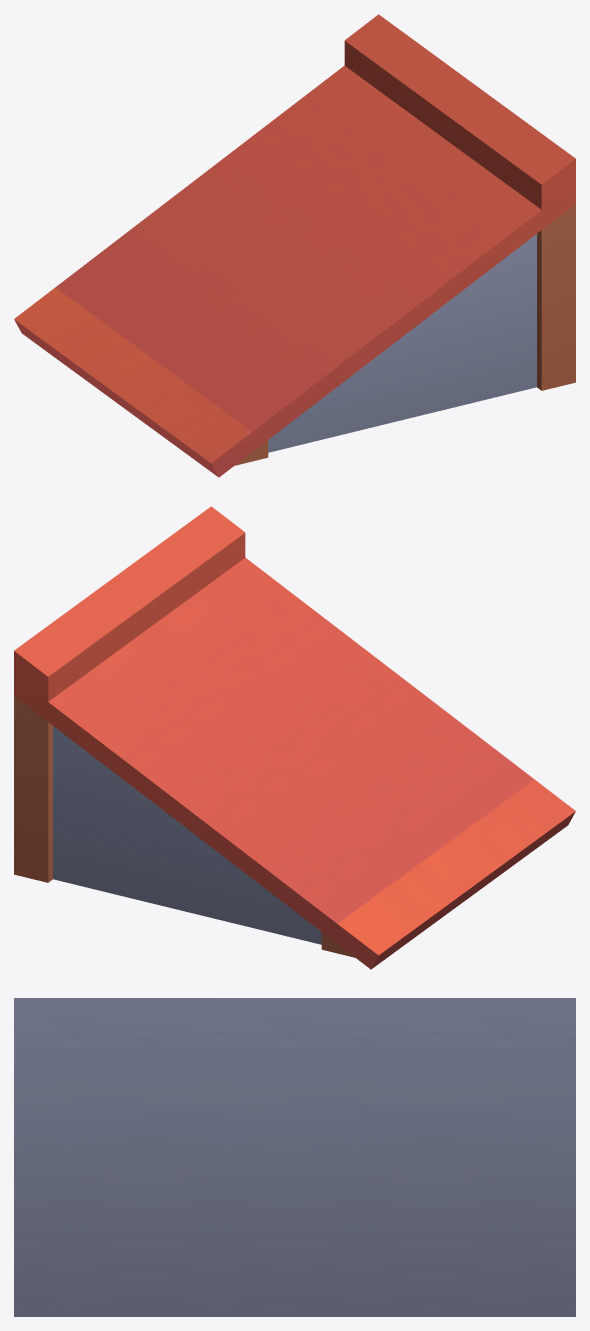
The model's file is roof.fbx.
The picture shows the model from 3 angles, top to bottom: view 1: azimuth 30°, elevation 25°; view 2: azimuth 150°, elevation 25°; view 3: azimuth 270°, elevation 25°; orthographic projection. The views are drawn at different scales.
Visible parts, largest first — view 1: roof; view 2: roof; view 3: roof.
Boxes of the visible parts, x1,y1,x2,y2 form: roof: (14, 14, 575, 477); roof: (14, 506, 575, 969); roof: (14, 998, 575, 1316).
Bounding box in the file's own units: 1.07 × 1 × 0.6483.
